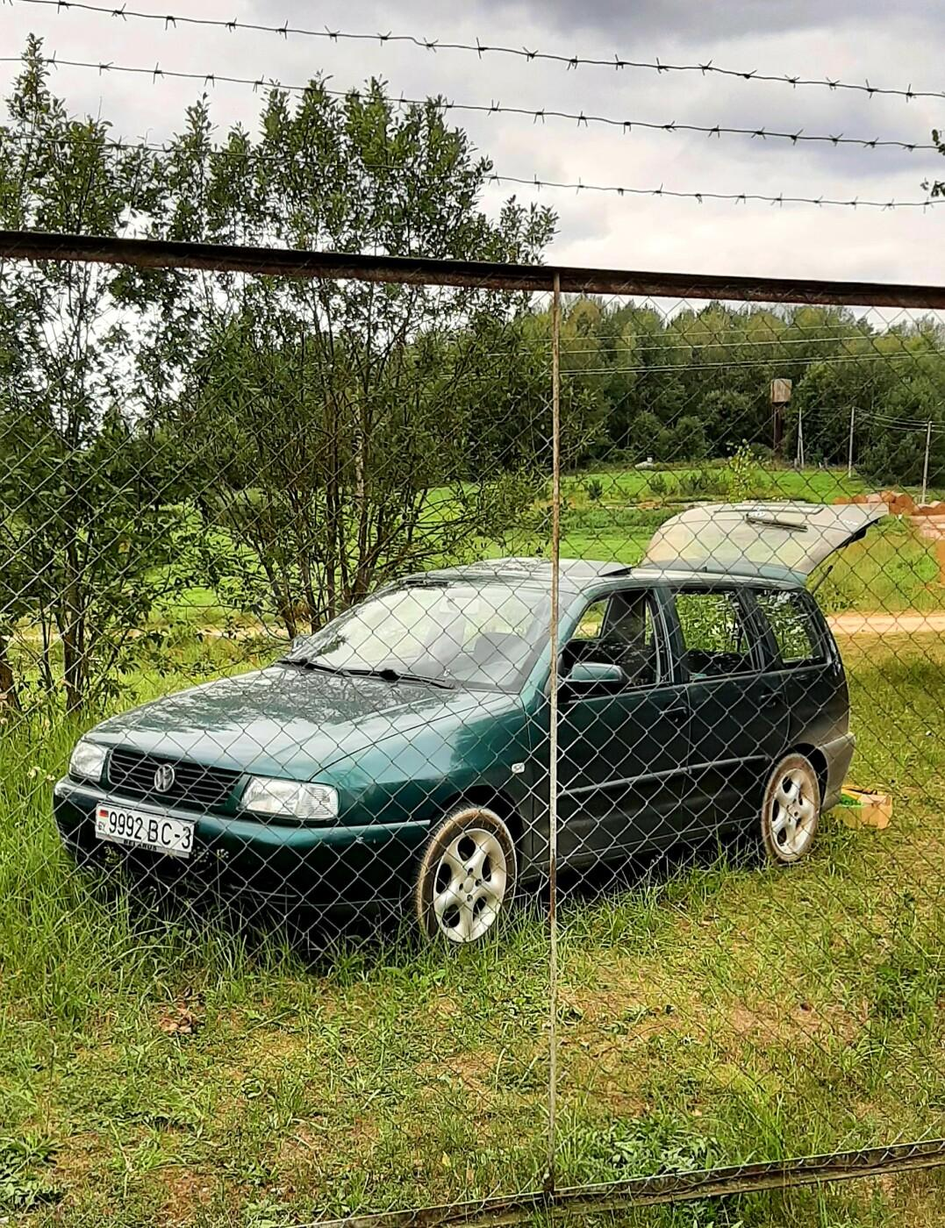Polo_1994-2002: (50, 488, 882, 1007)
